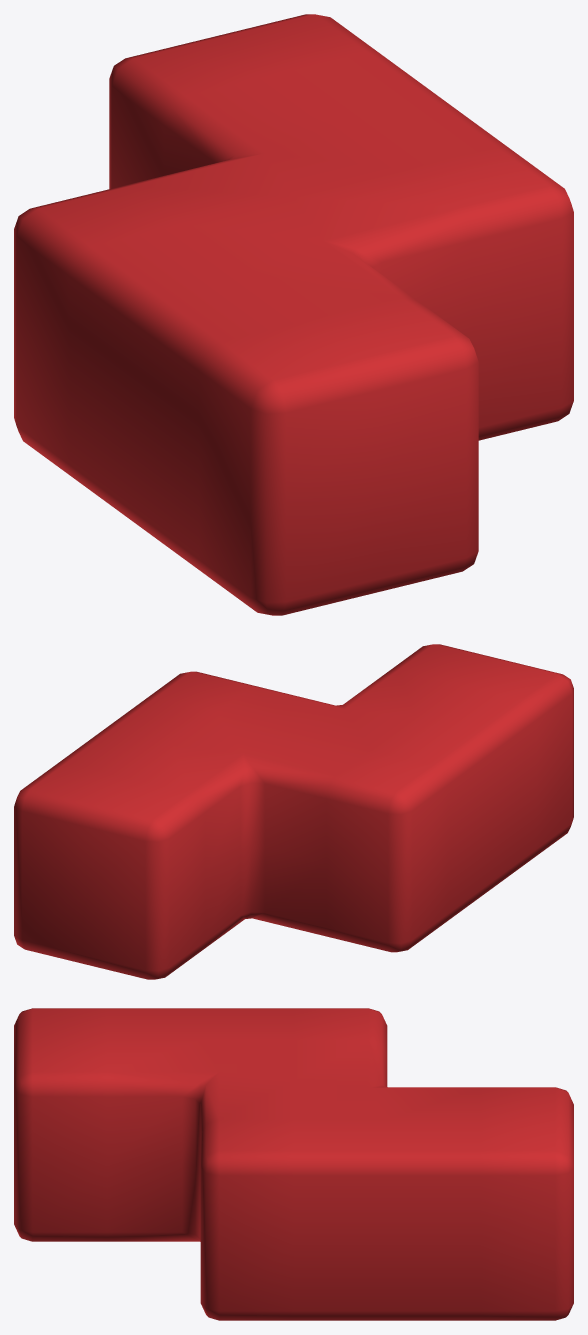
File: tetrisZ.obj
3 views of the same model, one above another, from view 1: azimuth 30°, elevation 25°; view 2: azimuth 150°, elevation 25°; view 3: azimuth 270°, elevation 25° (orthographic). The views are drawn at different scales.
Visible parts, largest first — view 1: Cube; view 2: Cube; view 3: Cube.
Part boxes in pixels (box(x1,y1,x2,y2)): Cube: box(14, 14, 573, 615); Cube: box(14, 644, 573, 979); Cube: box(14, 1008, 573, 1320).
Size of the model in its own units: 0.3 by 0.15 by 0.45.
